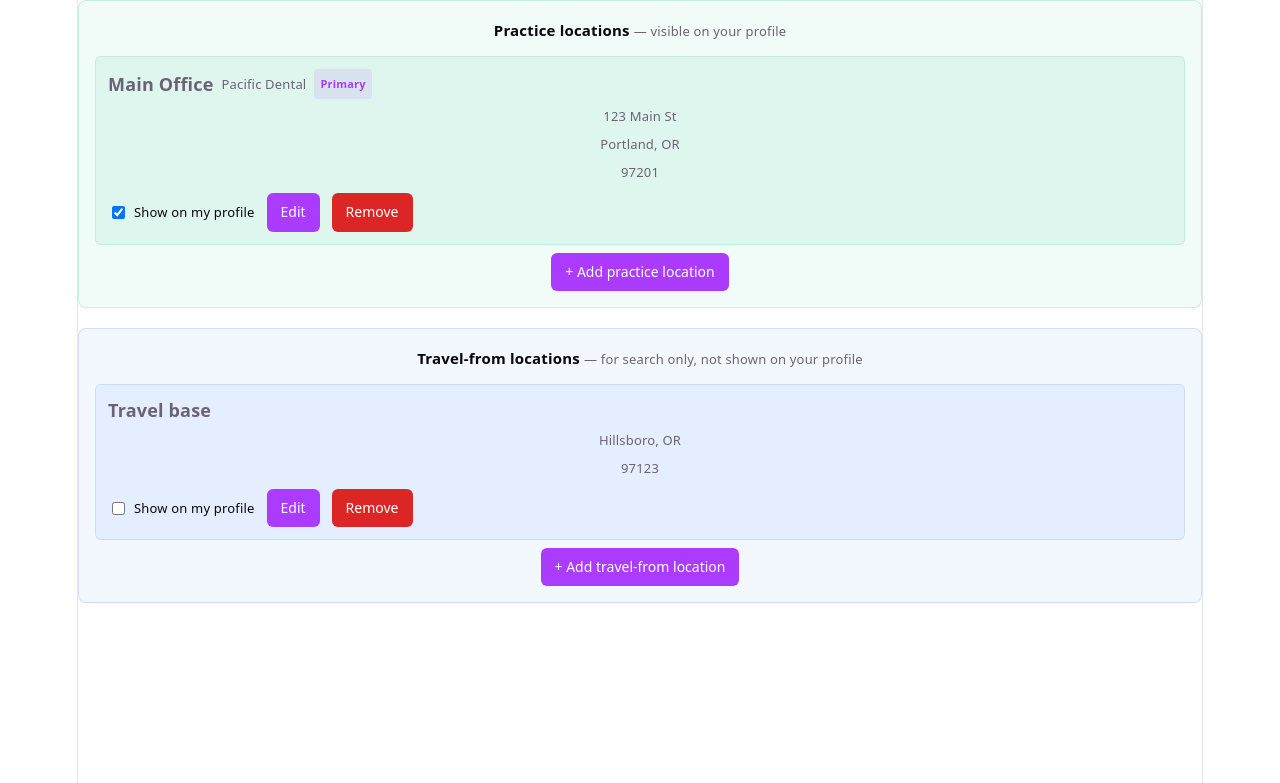
Test: LocationEntry › opens add form when '+ Add practice location' is clicked
Expected: the text "Main Office" is shown, [108,71,214,97]
Click the button "+ Add practice location". click: (640, 272)
box: [551,253,729,291]
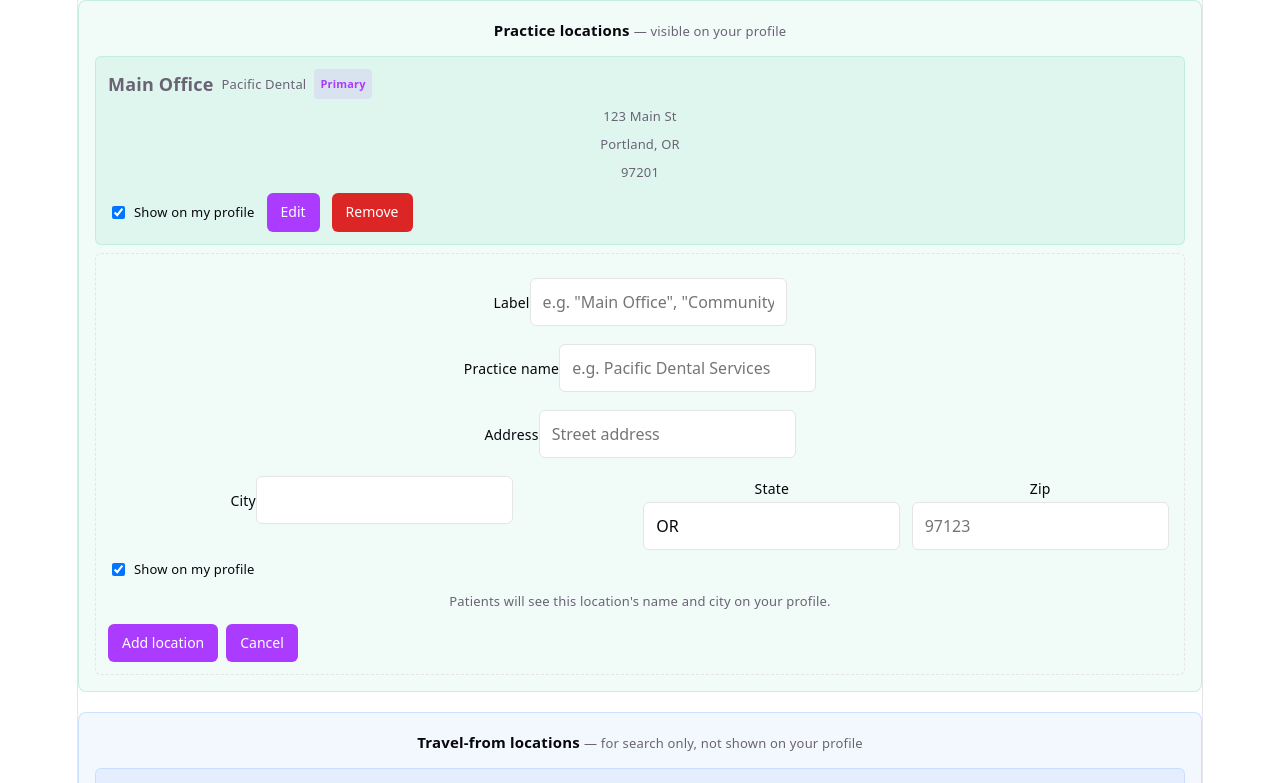
Expected: the button "Add location" is shown, [108,624,218,662]
Expected: the button "Cancel" is shown, [226,624,298,662]
